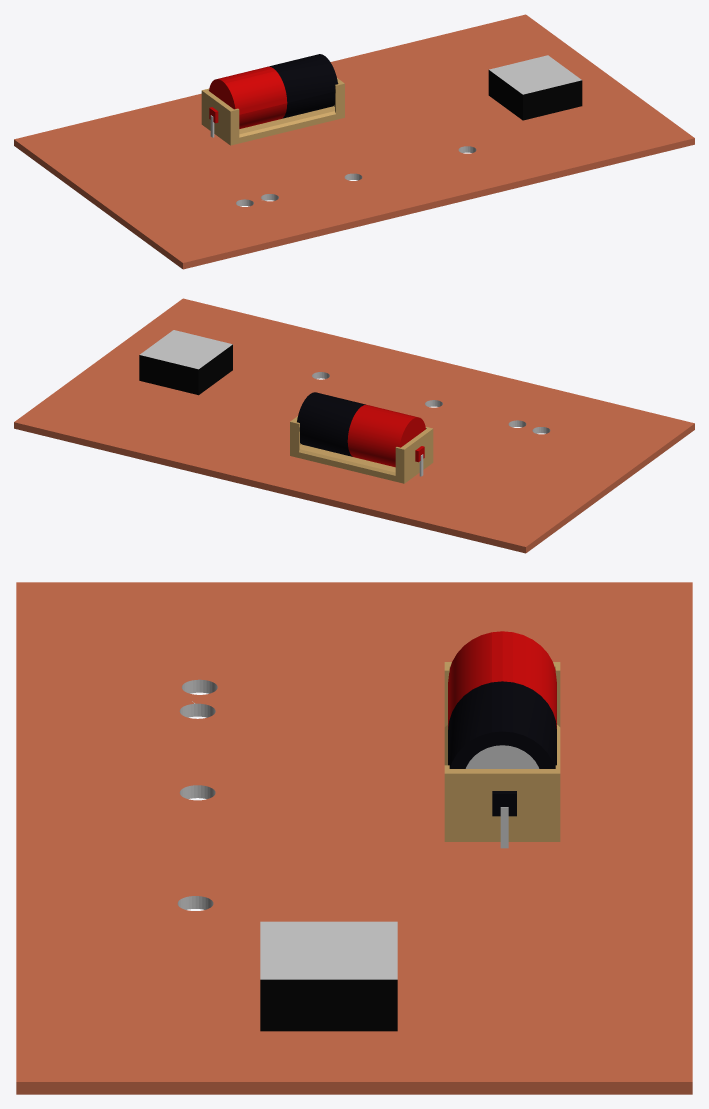
Rendered from 3D_circuit board.fbx.
3 views of the same model, one above another, from view 1: azimuth 30°, elevation 25°; view 2: azimuth 150°, elevation 25°; view 3: azimuth 270°, elevation 25° (orthographic). The views are drawn at different scales.
Parts seen in each view (by area): view 1: to_unity_Base_test_10_25; view 2: to_unity_Base_test_10_25; view 3: to_unity_Base_test_10_25.
Boxes of the visible parts, box(x1,y1,x2,y2) form: to_unity_Base_test_10_25: box(14, 14, 694, 269); to_unity_Base_test_10_25: box(14, 298, 694, 553); to_unity_Base_test_10_25: box(16, 582, 692, 1094).
Size of the model in its own units: 63.2 by 7.12 by 36.15.
